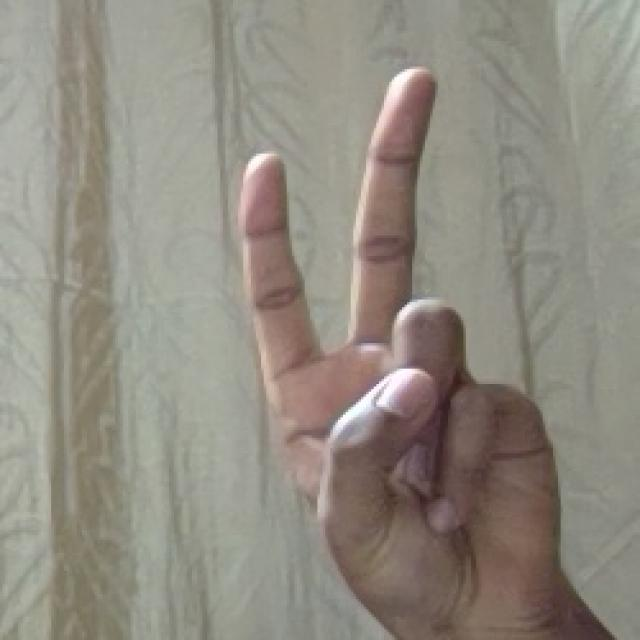Numeric-2: (215, 57, 568, 597)
